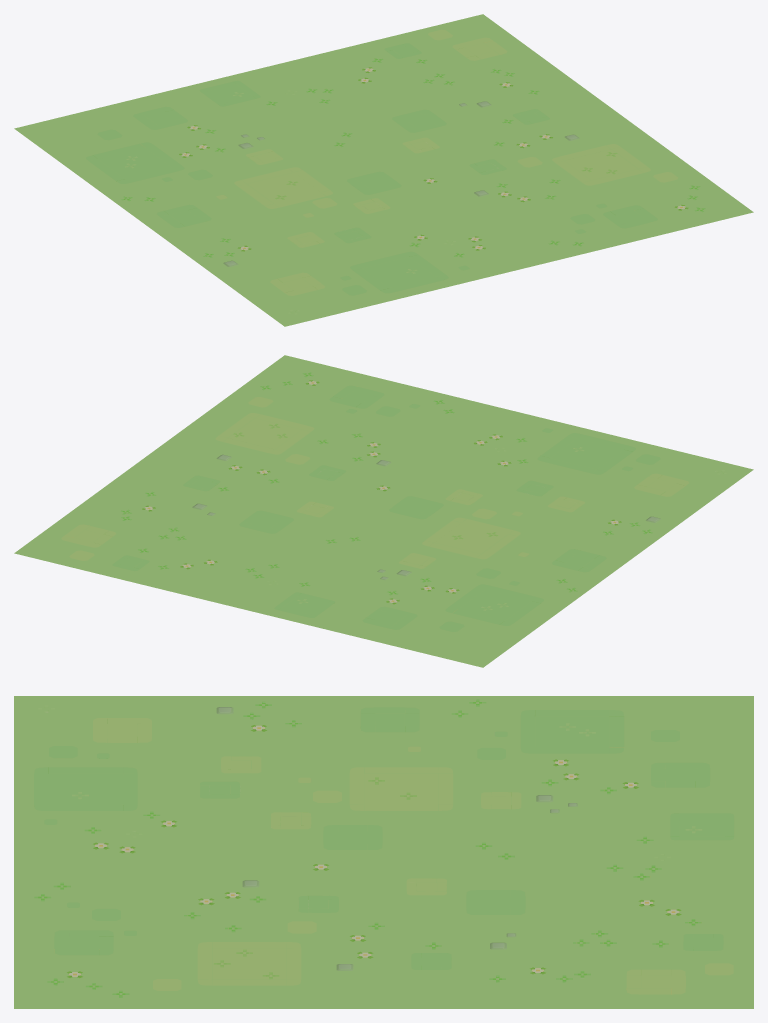
The model's file is C_grass1_02.fbx.
3 renders of one model, top to bottom at view 1: azimuth 30°, elevation 25°; view 2: azimuth 150°, elevation 25°; view 3: azimuth 270°, elevation 25°, orthographic. The views are drawn at different scales.
Visible parts, largest first — view 1: C_grass1_02; view 2: C_grass1_02; view 3: C_grass1_02.
Part boxes in pixels (x1,y1,x2,y2): C_grass1_02: [14, 14, 753, 326]; C_grass1_02: [14, 355, 753, 667]; C_grass1_02: [14, 696, 753, 1008].
Bounding box in the file's own units: 50 × 0.1888 × 50.
